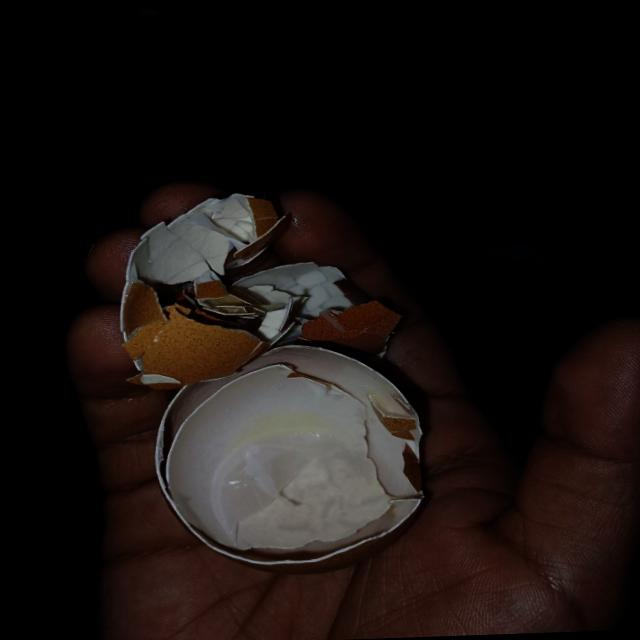organic: (115, 186, 433, 580)
